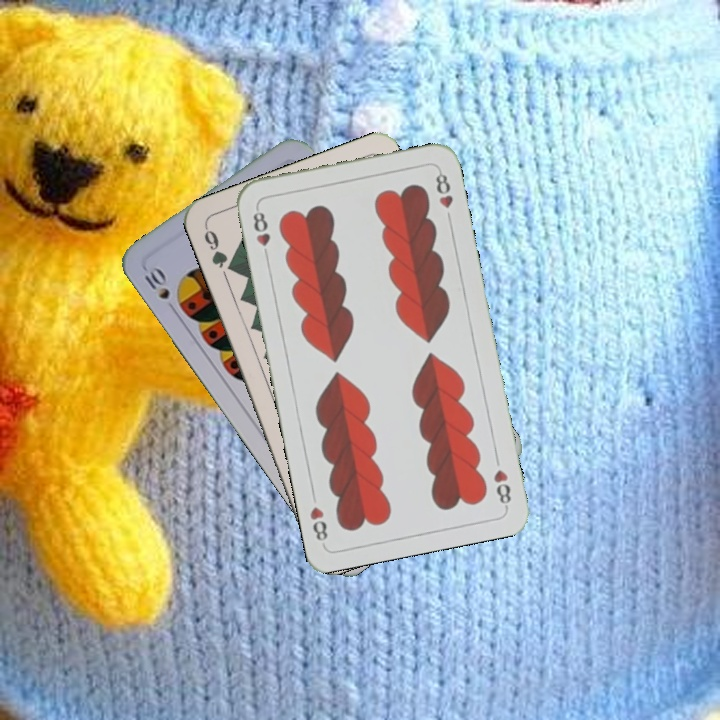G9: (200, 223, 238, 275)
H8: (249, 203, 273, 262), (489, 465, 514, 510)
S10: (137, 262, 180, 316)
